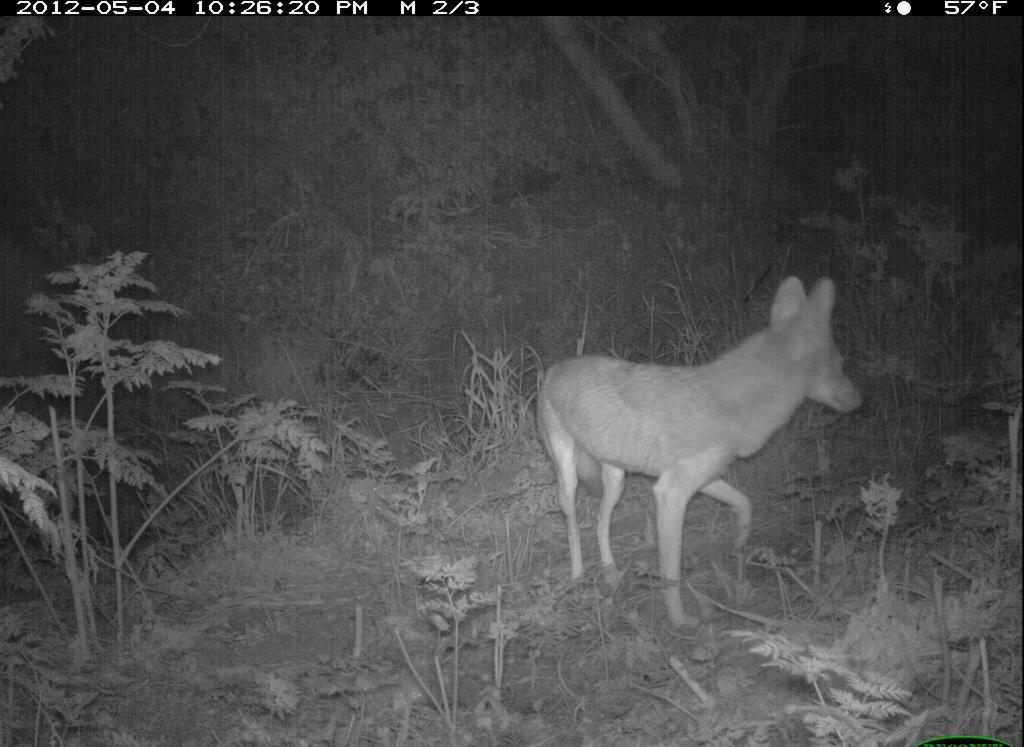coyote: (521, 263, 872, 644)
